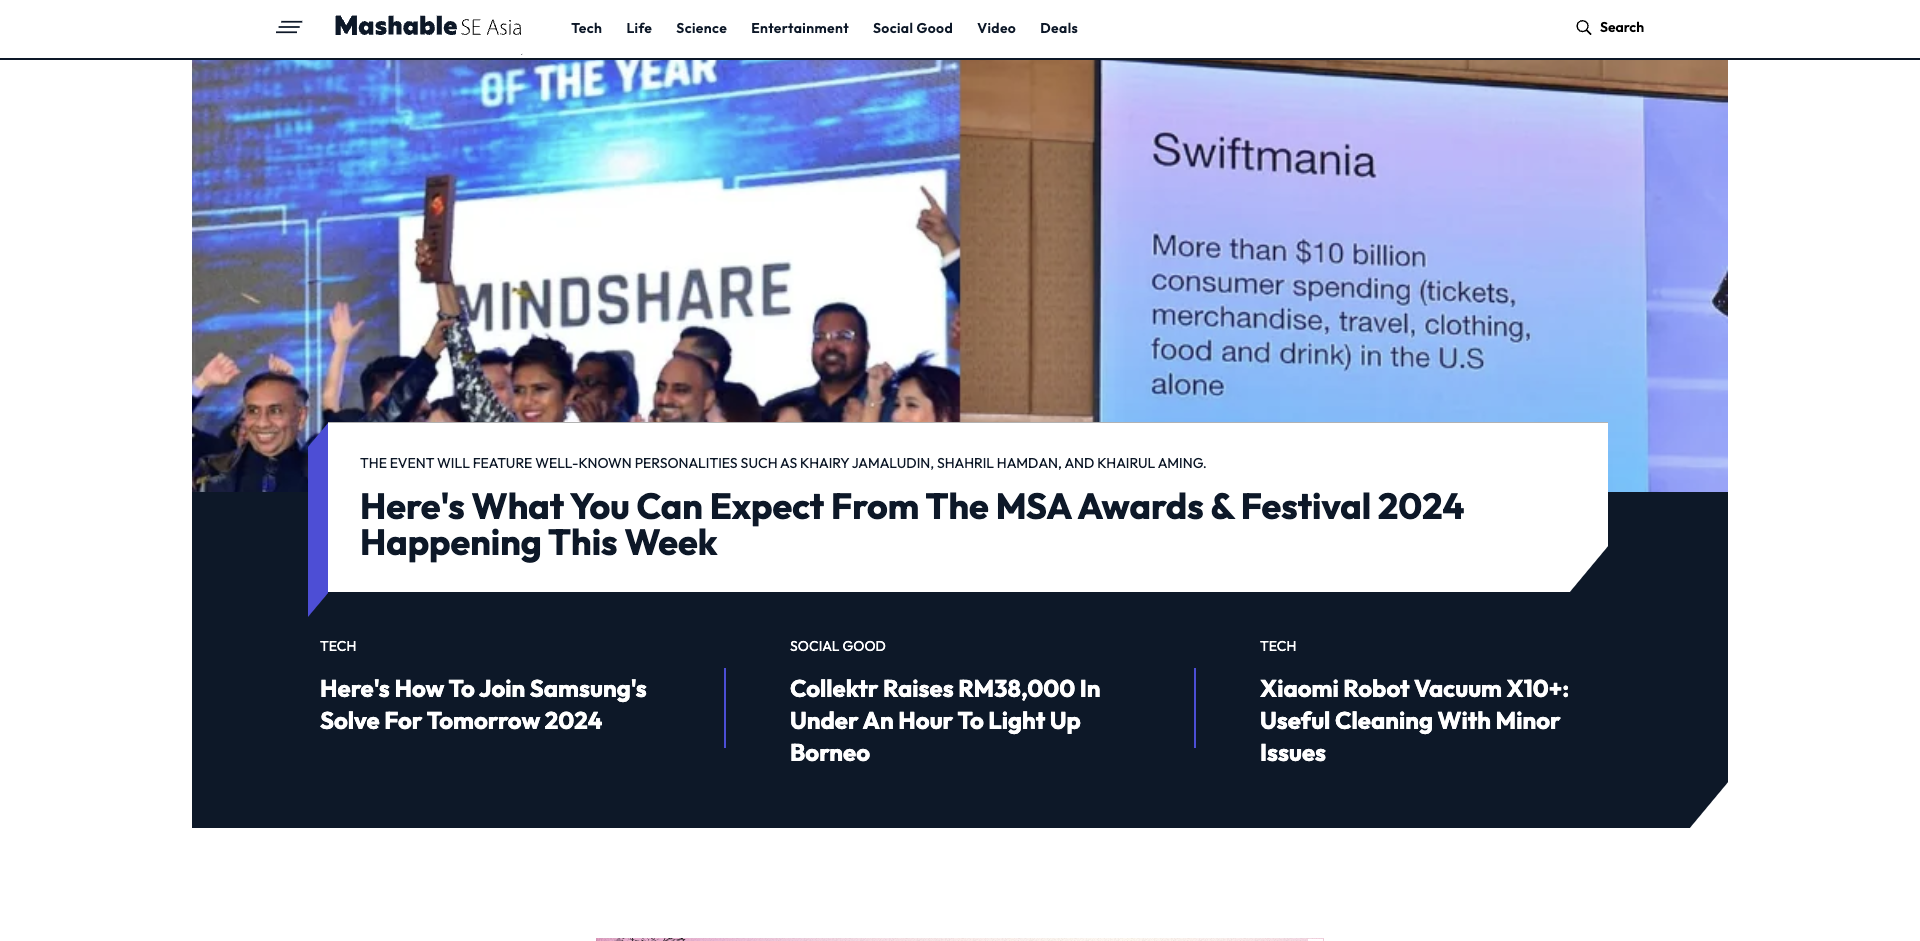input: (1569, 12, 1747, 39)
link: (192, 48, 1728, 496), (360, 455, 1544, 560), (790, 636, 1130, 768), (1260, 636, 1600, 768), (320, 636, 660, 736), (312, 17, 523, 37), (751, 18, 849, 37), (873, 18, 953, 37), (676, 18, 727, 37), (977, 18, 1016, 37), (1041, 18, 1078, 37), (572, 18, 602, 37), (627, 18, 653, 37)
